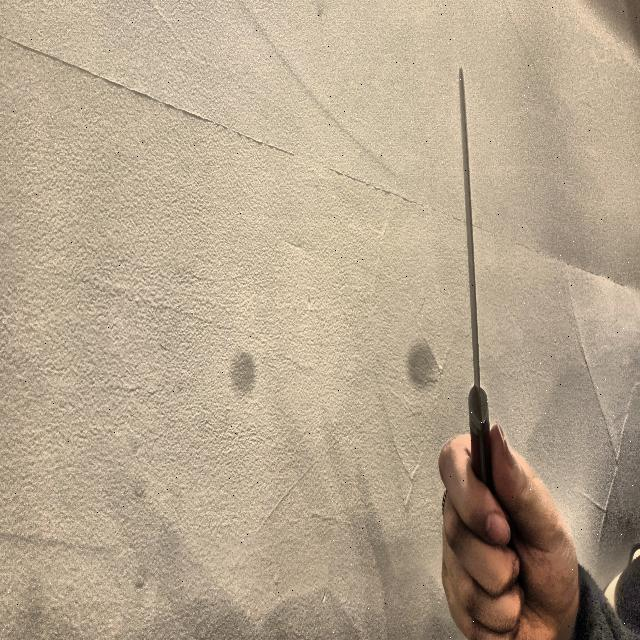knife: (457, 66, 493, 495)
